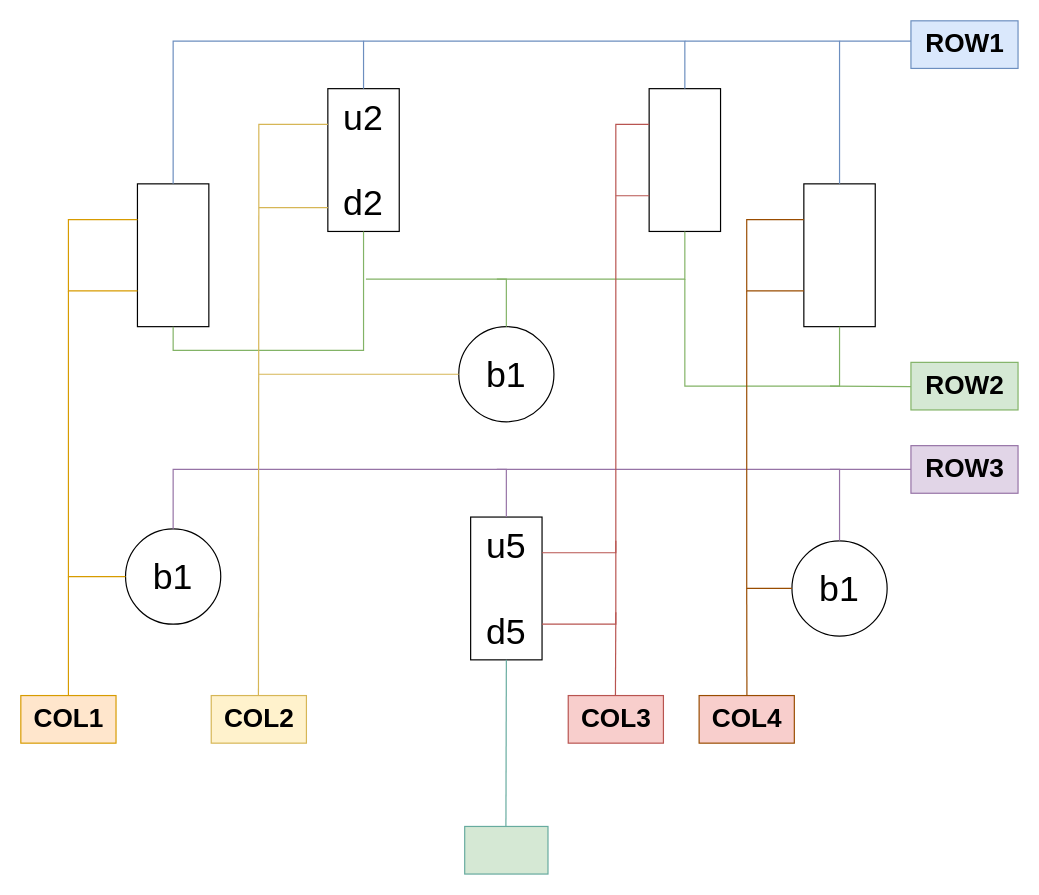
Some shapes in this 1039 by 895 pixel diagram are drawn without their labels. Here are the shapes that lost their labels. From the top down, the centre of each, then its label:
point (684, 159): u3 d3
point (172, 255): u1 d1
point (839, 255): u4 d4
point (506, 849): SPIN
